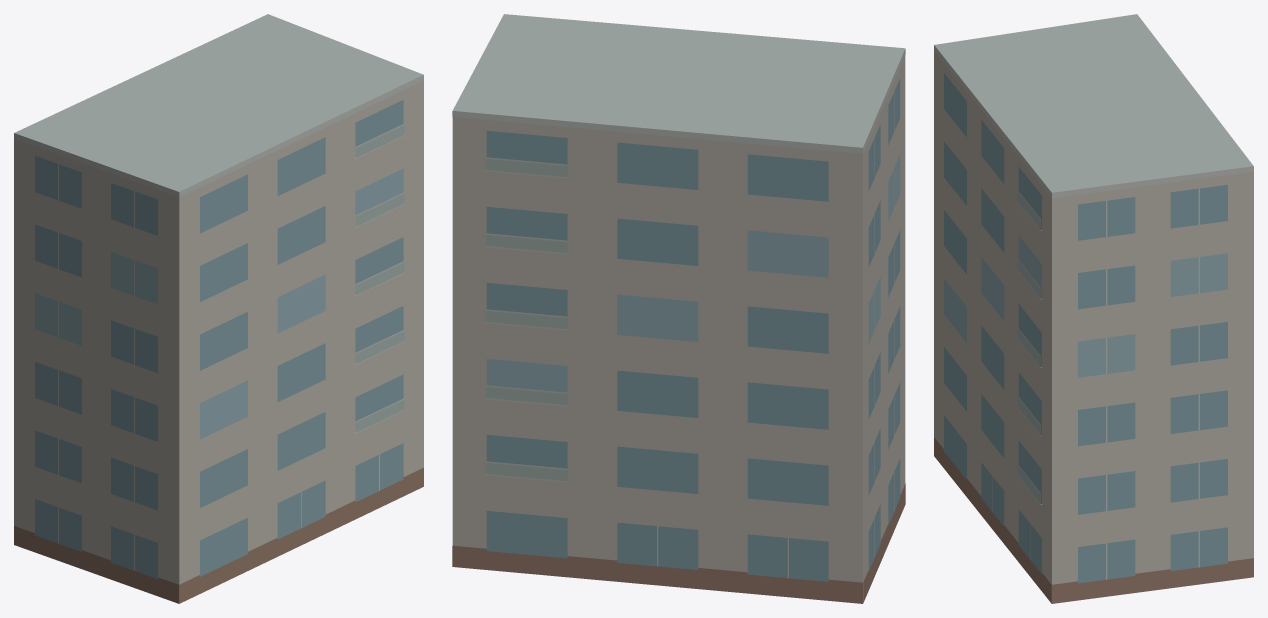
The model's file is survey-upis-32968130.glb.
3 views of the same model, side by side, from view 1: azimuth 30°, elevation 25°; view 2: azimuth 150°, elevation 25°; view 3: azimuth 270°, elevation 25° (orthographic). The views are drawn at different scales.
Parts seen in each view (by area): view 1: survey-upis-32968130.tmp; view 2: survey-upis-32968130.tmp; view 3: survey-upis-32968130.tmp.
Part boxes in pixels (box(x1,y1,x2,y2)): survey-upis-32968130.tmp: box(14, 14, 423, 603); survey-upis-32968130.tmp: box(452, 14, 905, 603); survey-upis-32968130.tmp: box(934, 14, 1253, 603).
Bounding box in the file's own units: 17.07 × 18.3 × 12.91.
